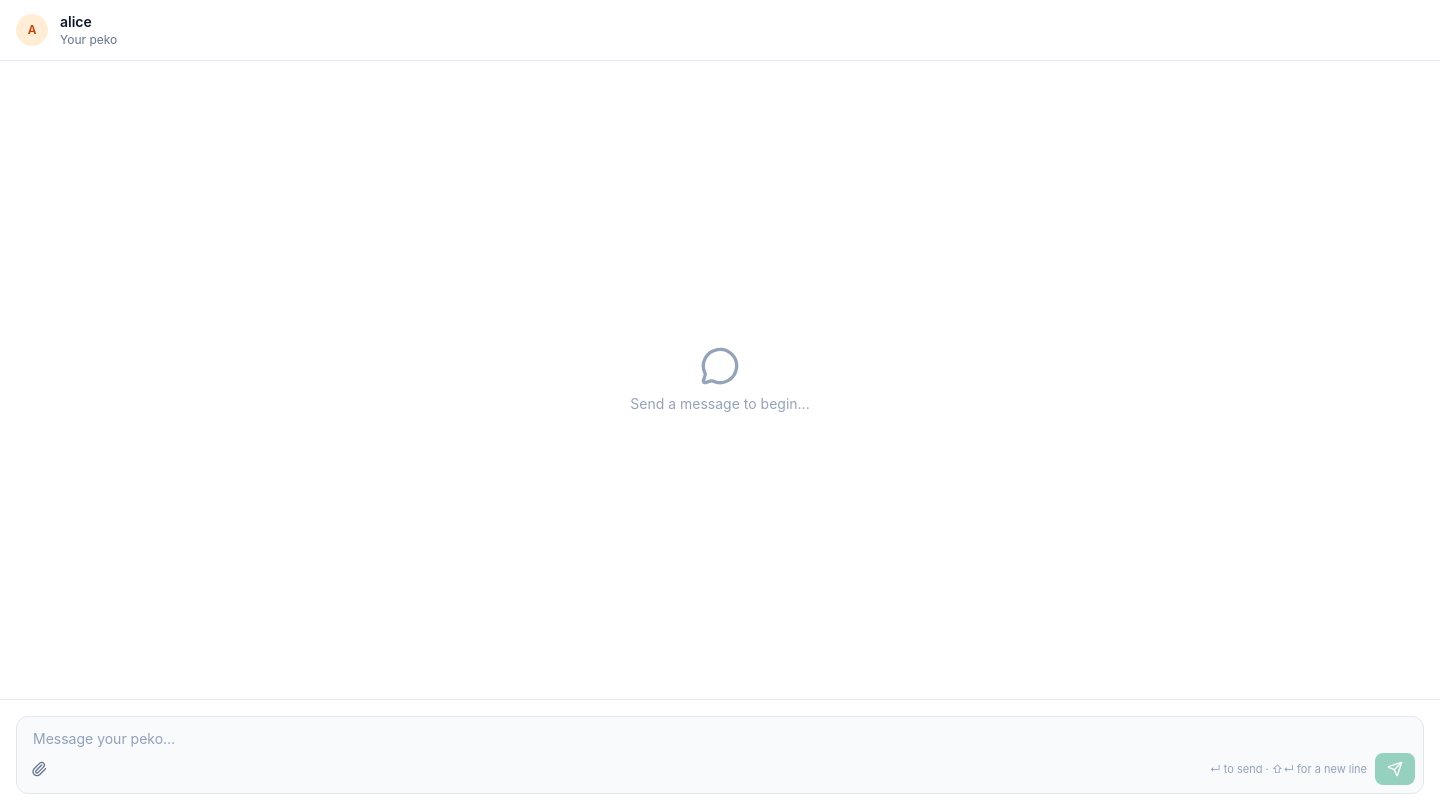
Test: Chat ToS gate › keeps generic send failures in the plain error box
Type "hello" into the text box labelled "Message" at (720, 735), box top-left (17, 717), bottom-right (1423, 753)
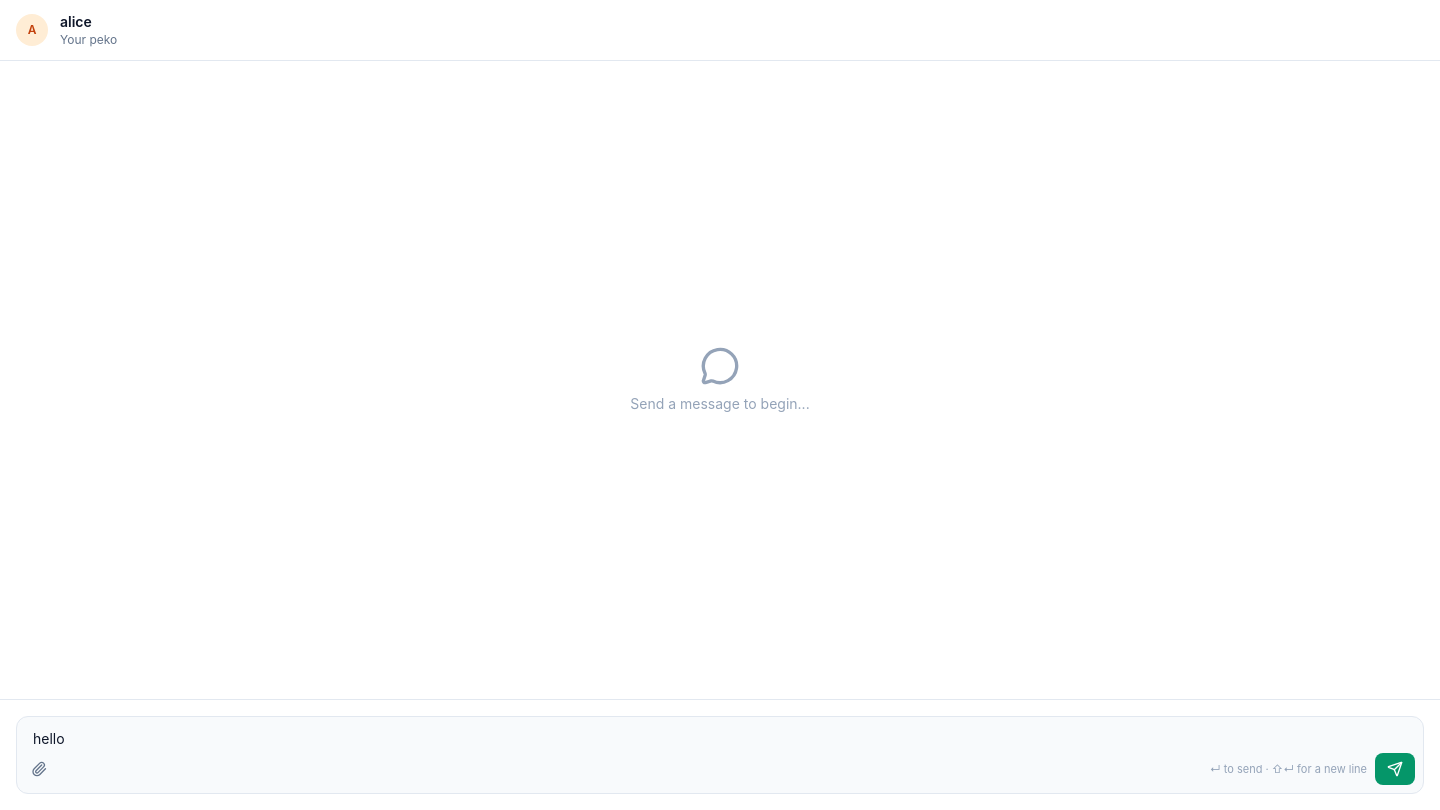
Click the button named "send" at (1395, 769), box top-left (1375, 753), bottom-right (1415, 785)
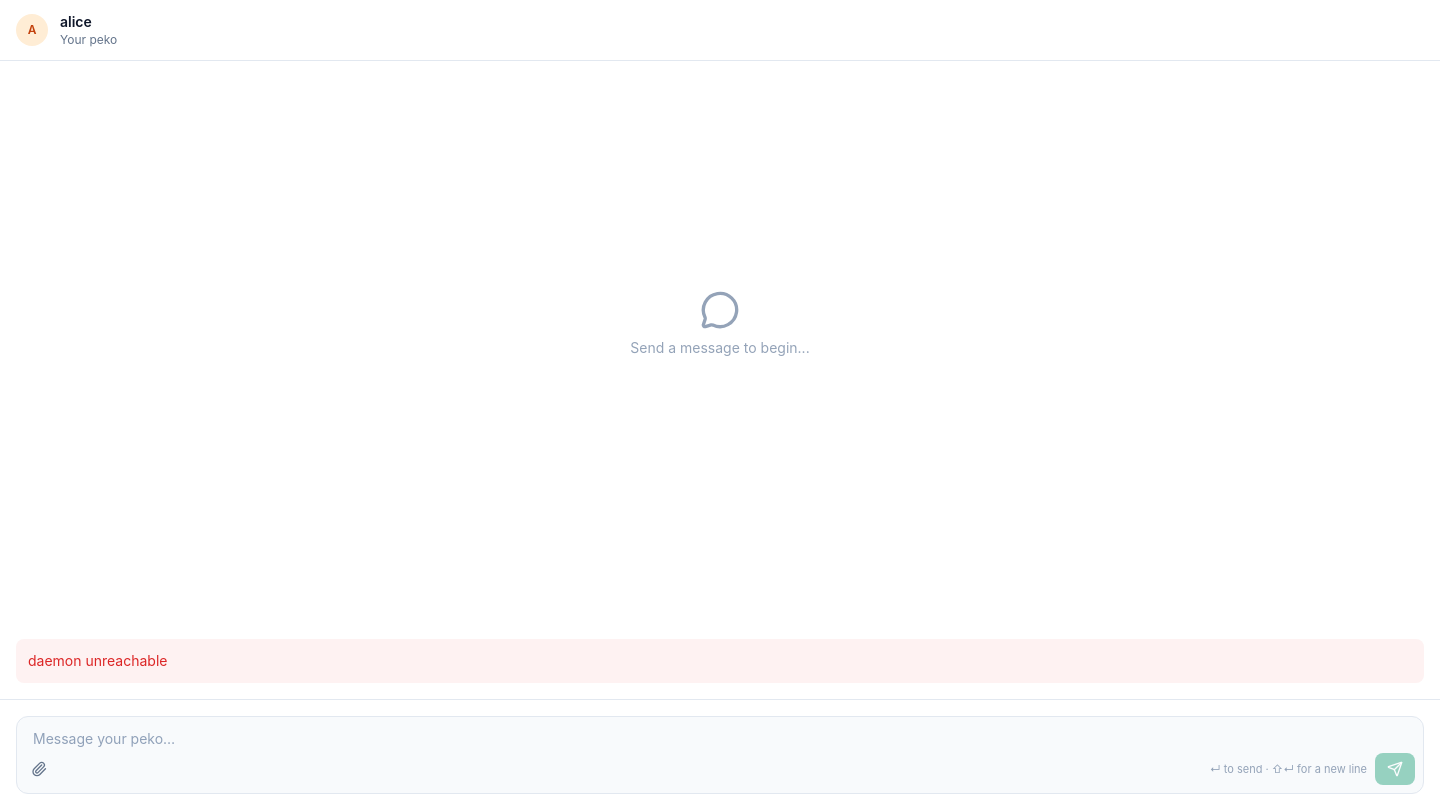
expect the text "daemon unreachable" is shown: met, box top-left (16, 639), bottom-right (1424, 683)
